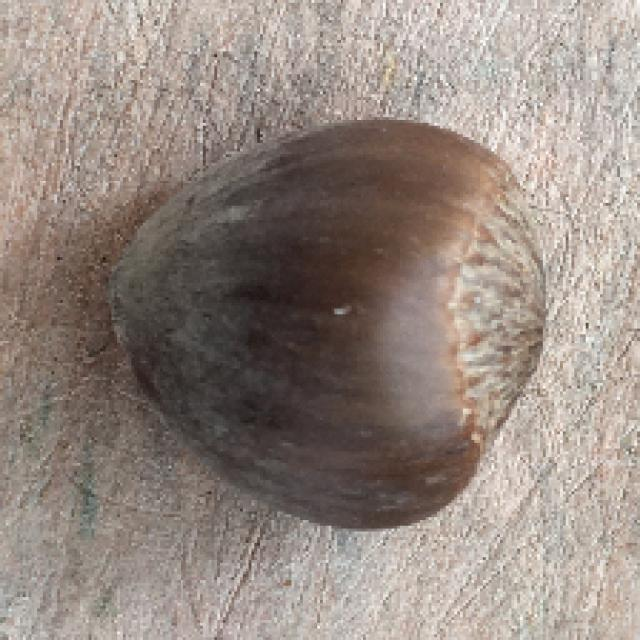damagedHazelnut: (103, 117, 549, 531)
